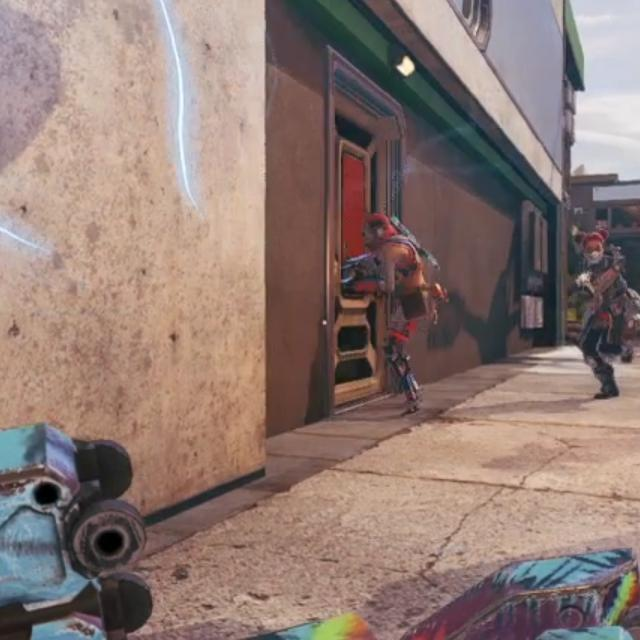avatar: (361, 209, 431, 419), (572, 226, 640, 402)
